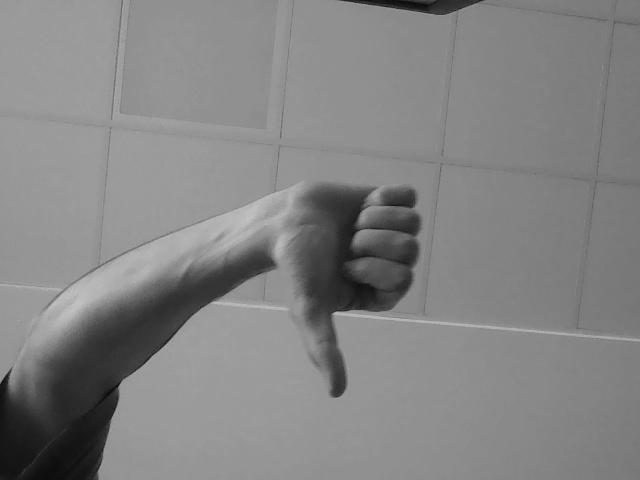bad: (259, 146, 439, 386)
